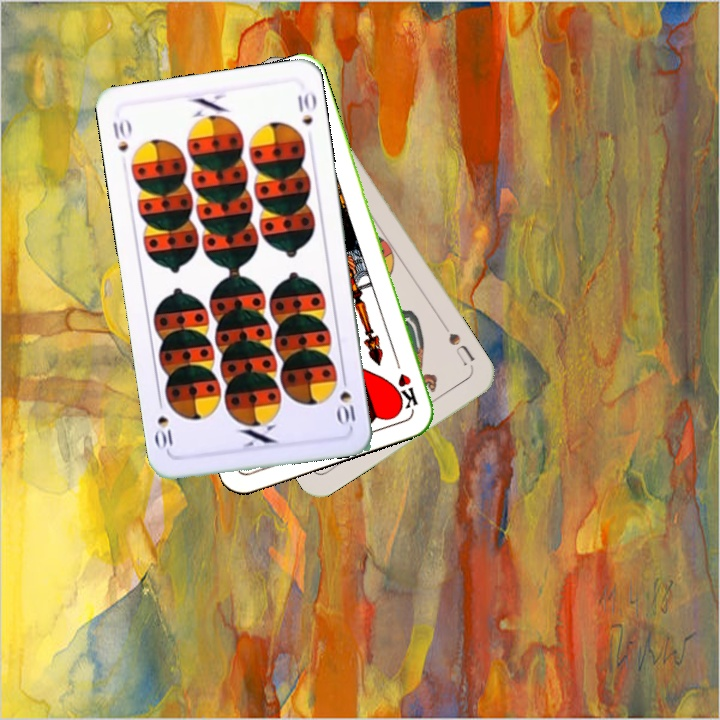HK: (390, 353, 421, 412)
S10: (334, 370, 358, 430), (108, 115, 134, 154)
SU: (439, 320, 477, 373)
